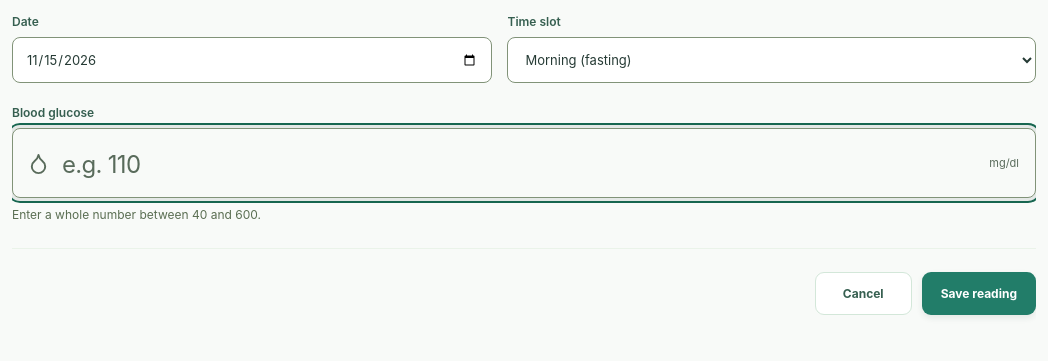
Test: Reading form › explains a missing value and does not submit an empty reading
Click the button "Save reading". click: (979,294)
box: [922,272,1036,315]
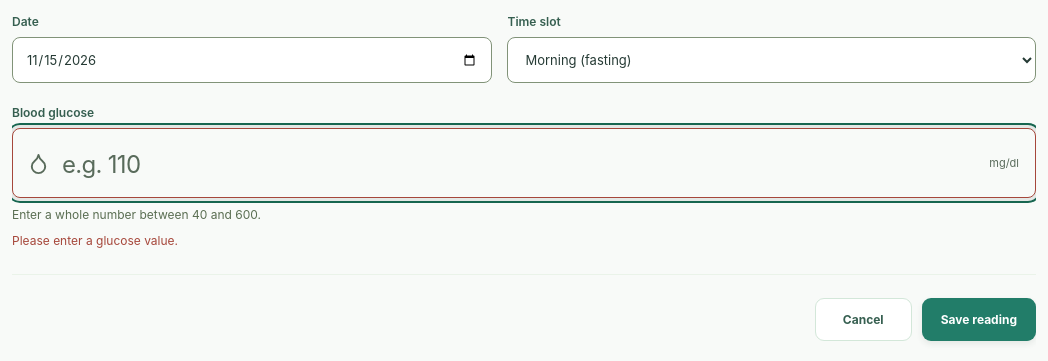
Check: the text "Please enter a glucose value." is shown, box [12,233,178,248]
